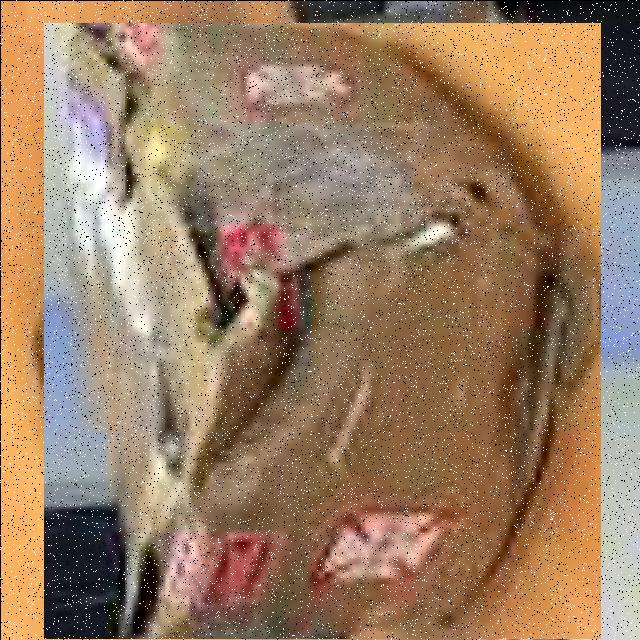defect: (43, 22, 600, 638)
